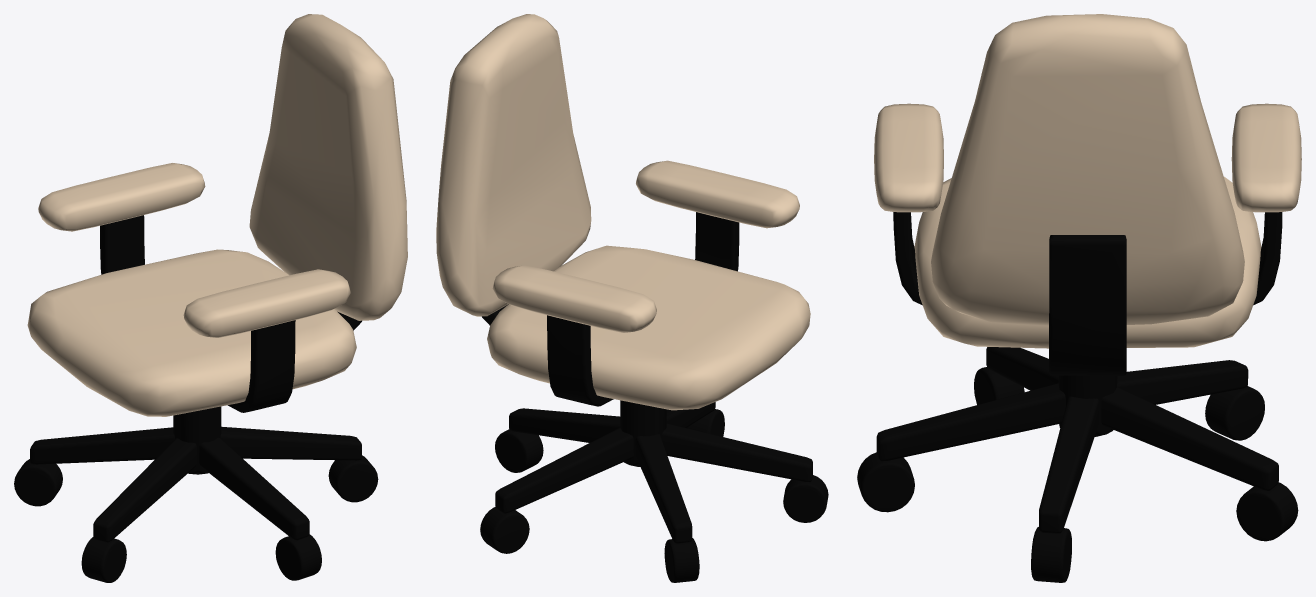
The model's file is office_chair_beige.fbx.
3 renders of one model, left to right at view 1: azimuth 30°, elevation 25°; view 2: azimuth 150°, elevation 25°; view 3: azimuth 270°, elevation 25°, orthographic. The views are drawn at different scales.
Visible parts, largest first — view 1: office_chair_beige; view 2: office_chair_beige; view 3: office_chair_beige.
Part boxes in pixels (x1,y1,x2,y2): office_chair_beige: [14, 14, 407, 582]; office_chair_beige: [436, 14, 828, 582]; office_chair_beige: [857, 14, 1301, 582].
Size of the model in its own units: 76.26 by 103 by 73.42.
Materials: 2 (2 with a texture image).
